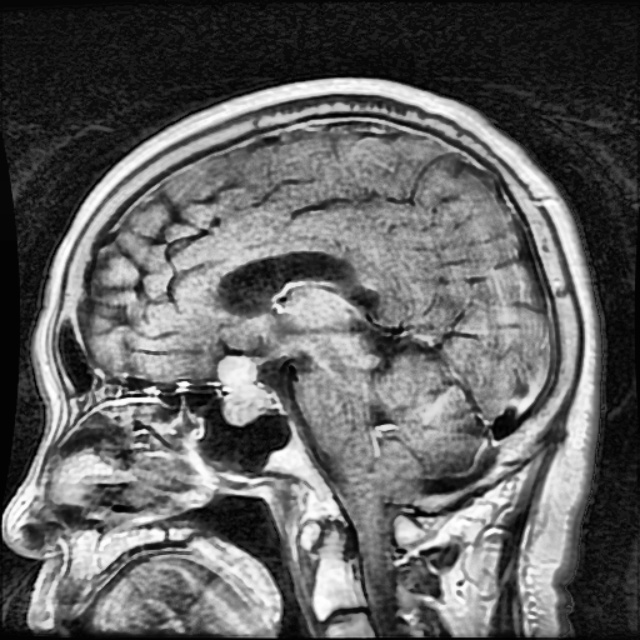Pituitary: (217, 354, 270, 423)
